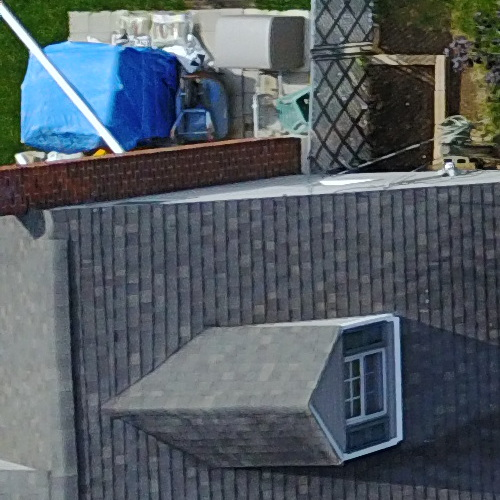clutter: (1, 1, 326, 156)
